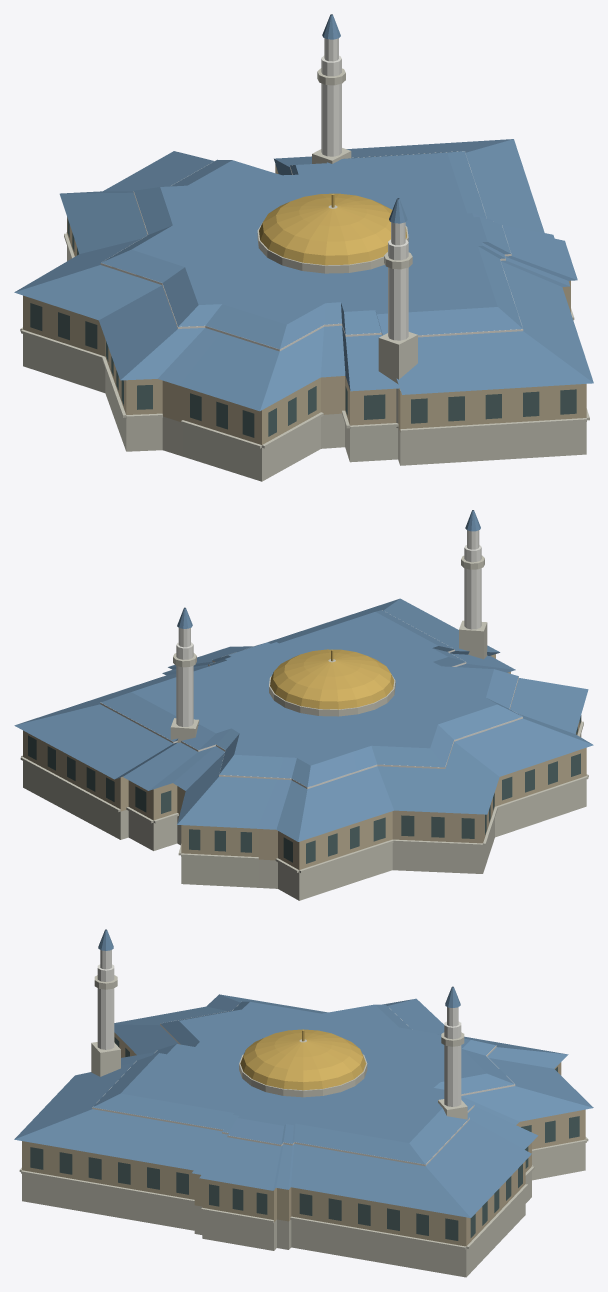
Rendered from masjid_lod1.glb.
3 views of the same model, one above another, from view 1: azimuth 30°, elevation 25°; view 2: azimuth 150°, elevation 25°; view 3: azimuth 270°, elevation 25° (orthographic). The views are drawn at different scales.
Visible parts, largest first — view 1: RoofBlue, Stone, PaintWarm, GoldPanels, GlassDark, PaintWhite; view 2: RoofBlue, Stone, PaintWarm, GoldPanels, GlassDark, PaintWhite; view 3: RoofBlue, Stone, PaintWarm, GoldPanels, GlassDark, PaintWhite.
Boxes of the visible parts, x1,y1,x2,y2 form: RoofBlue: (14,14,593,411); Stone: (20,68,589,481); PaintWarm: (23,164,586,444); GoldPanels: (259,193,406,265); GlassDark: (30,219,576,437); PaintWhite: (100,38,523,351); RoofBlue: (14,510,593,841); Stone: (20,555,588,900); PaintWarm: (23,654,586,869); GoldPanels: (270,649,394,709); GlassDark: (28,715,581,863); PaintWhite: (100,530,522,788); RoofBlue: (14,929,593,1217); Stone: (19,975,588,1277); PaintWarm: (22,1032,585,1246); GoldPanels: (240,1029,366,1090); GlassDark: (30,1037,579,1240); PaintWhite: (92,950,515,1166).
Bounding box in the file's own units: 62.31 × 27.8 × 68.24.
